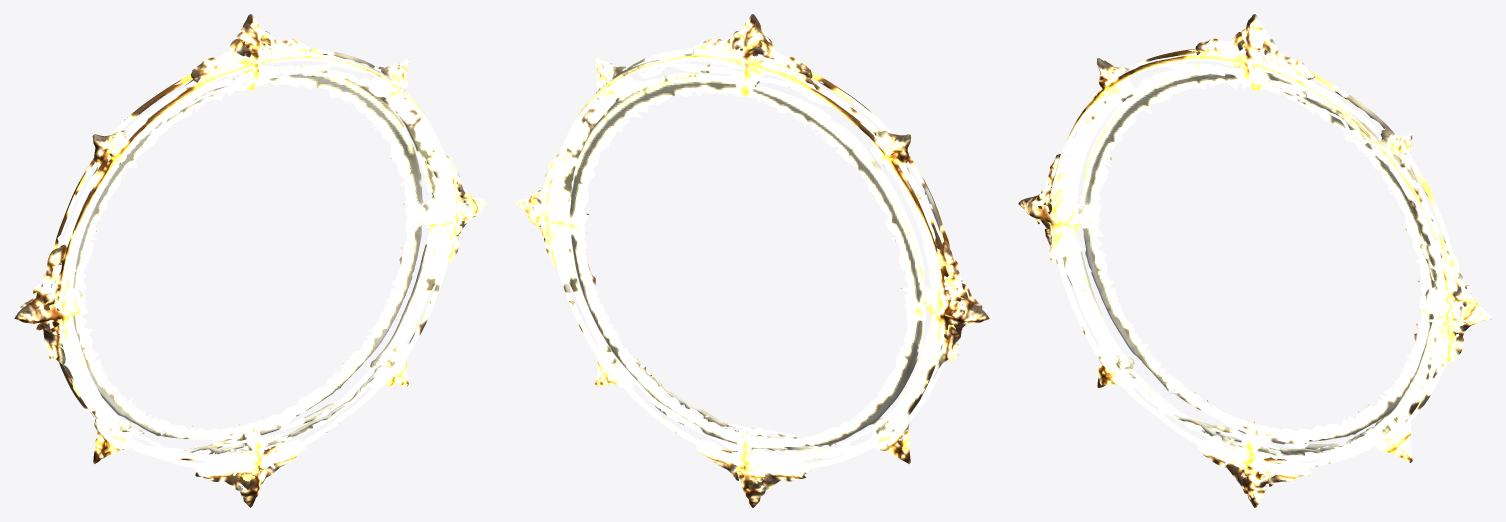
The model's file is lumen_halo.glb.
The picture shows the model from 3 angles, left to right: view 1: azimuth 30°, elevation 25°; view 2: azimuth 150°, elevation 25°; view 3: azimuth 330°, elevation 25°; orthographic projection.
Parts seen in each view (by area): view 1: geometry_0; view 2: geometry_0; view 3: geometry_0.
Boxes of the visible parts, x1,y1,x2,y2 form: geometry_0: (14,14,487,507); geometry_0: (516,14,989,507); geometry_0: (1018,14,1491,507).
Bounding box in the file's own units: 0.5413 × 0.5401 × 0.0319.
Materials: 1 (1 with a texture image).
